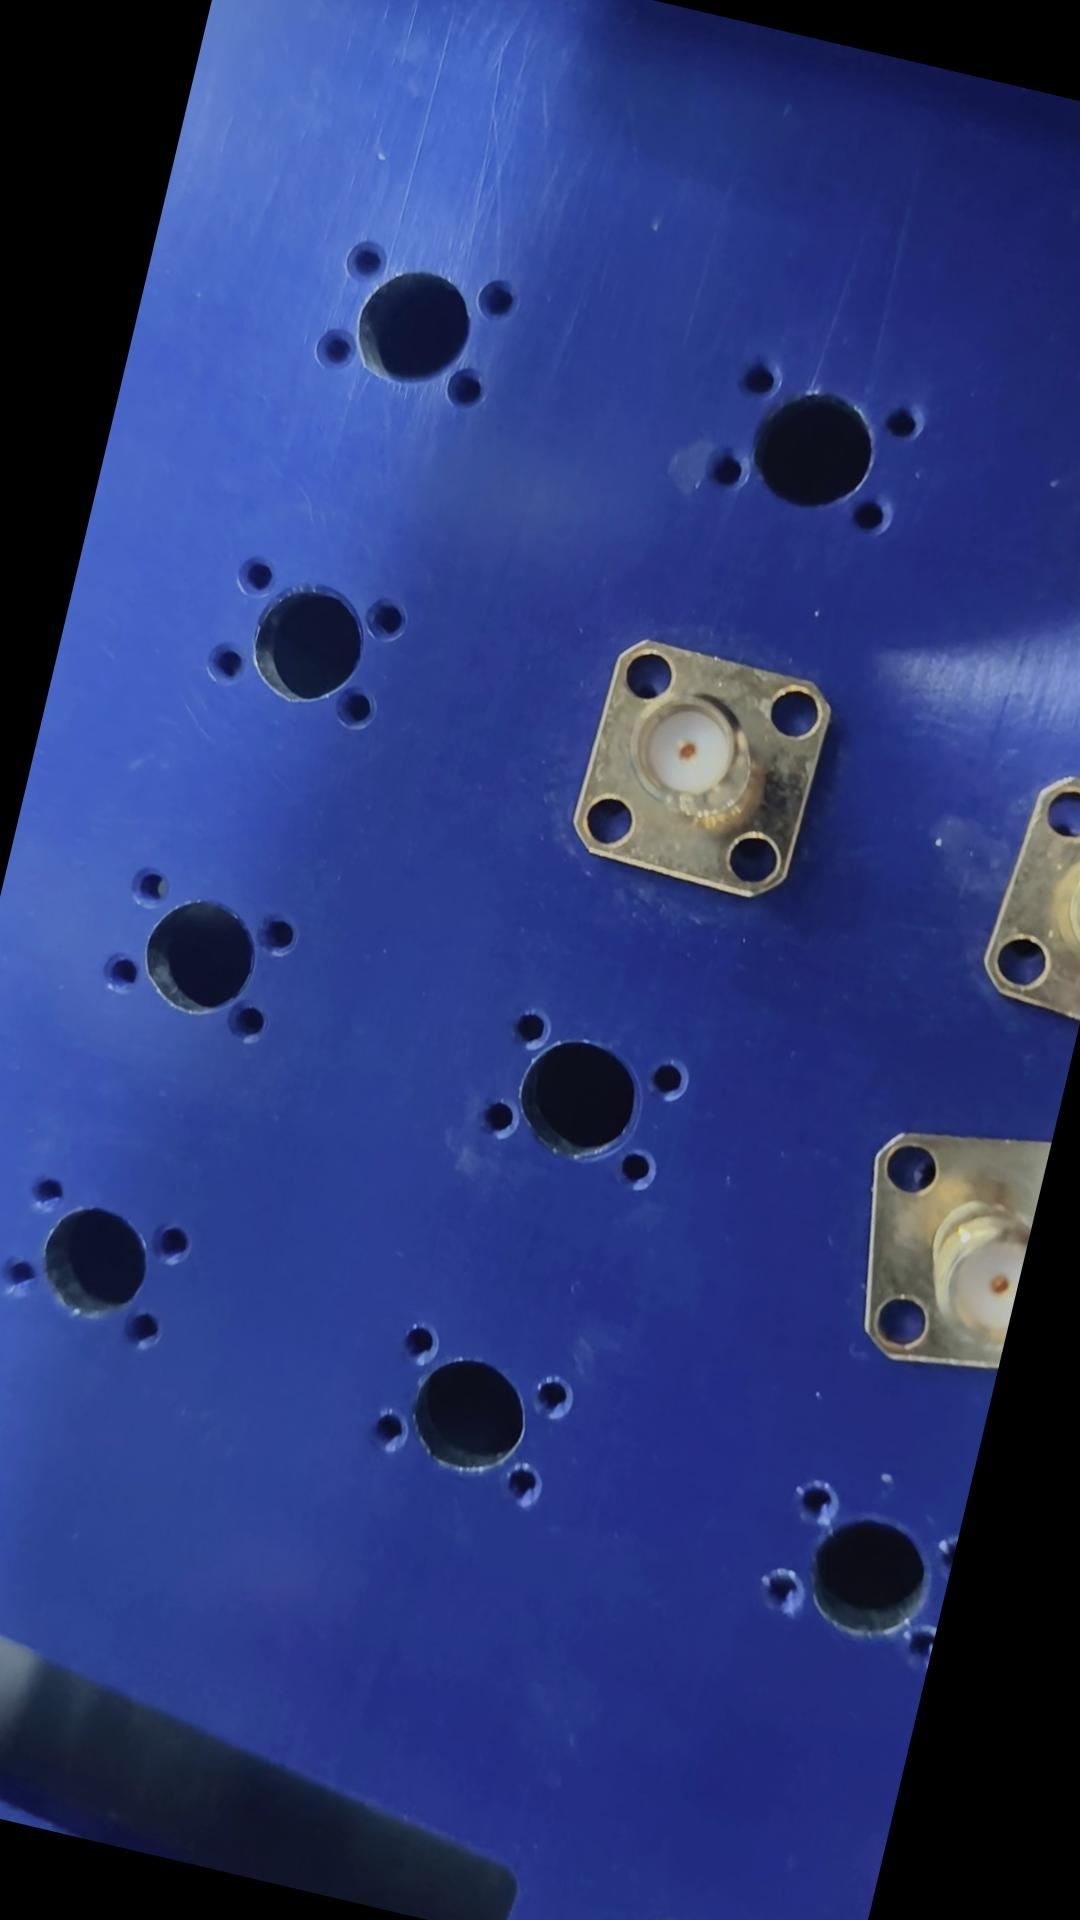SMA: (556, 633, 843, 910)
